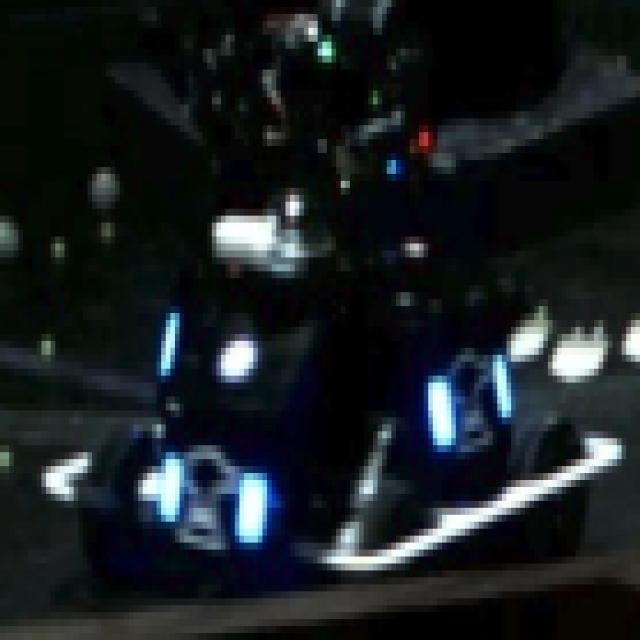Bs: (152, 424, 262, 564), (428, 341, 525, 473)
